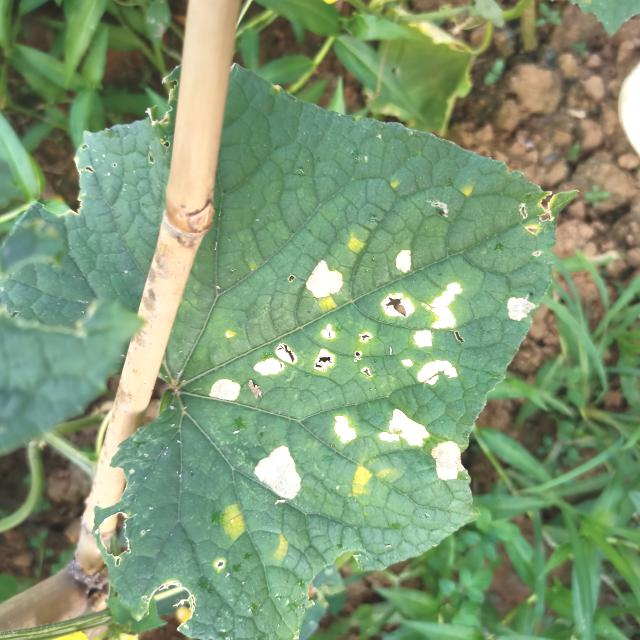disease_cucumber: (195, 245, 491, 406), (250, 444, 304, 506), (374, 403, 434, 449), (345, 460, 394, 502), (432, 436, 472, 483), (325, 405, 364, 445), (218, 500, 249, 542), (502, 288, 541, 321), (341, 228, 372, 256), (269, 533, 296, 561), (315, 296, 340, 314)
